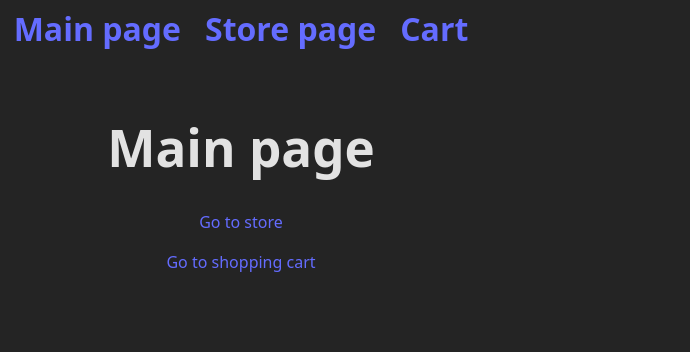
Scenario: main component › main page links › navigates to cart page
Click the link "Go to shopping cart".
click(241, 262)  # box [166, 251, 316, 273]
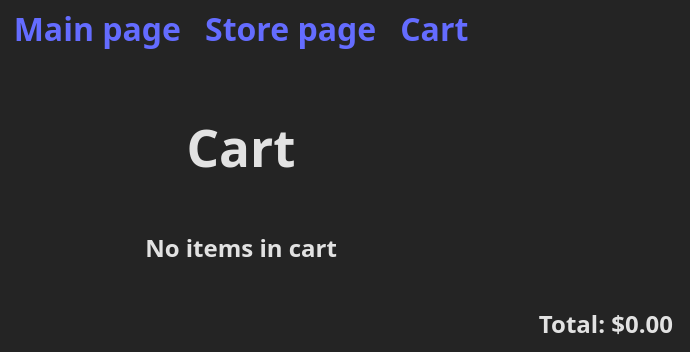
Now the heading "Cart" is shown, box [186, 112, 296, 182]
